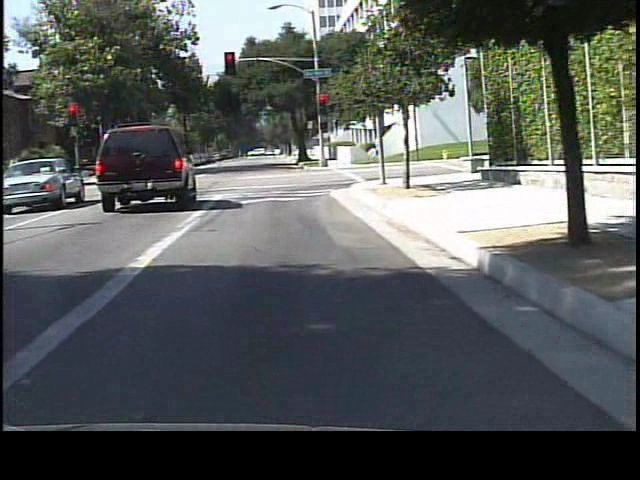person: (367, 133, 385, 166)
